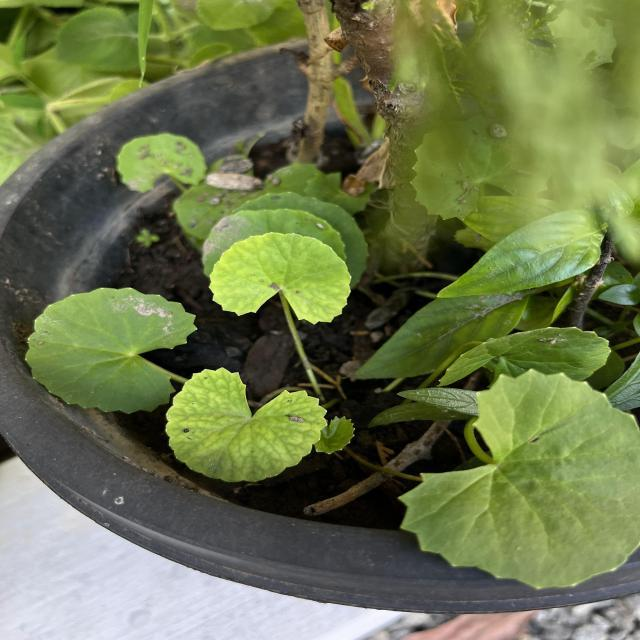Centella asiatica: (22, 284, 202, 416), (162, 364, 332, 486), (205, 230, 355, 328)
